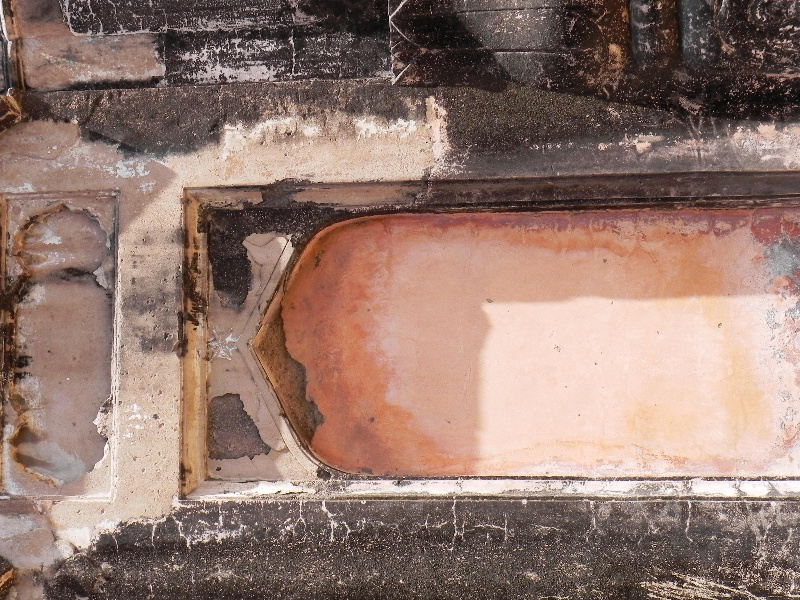Spalling: (196, 307, 343, 465)
